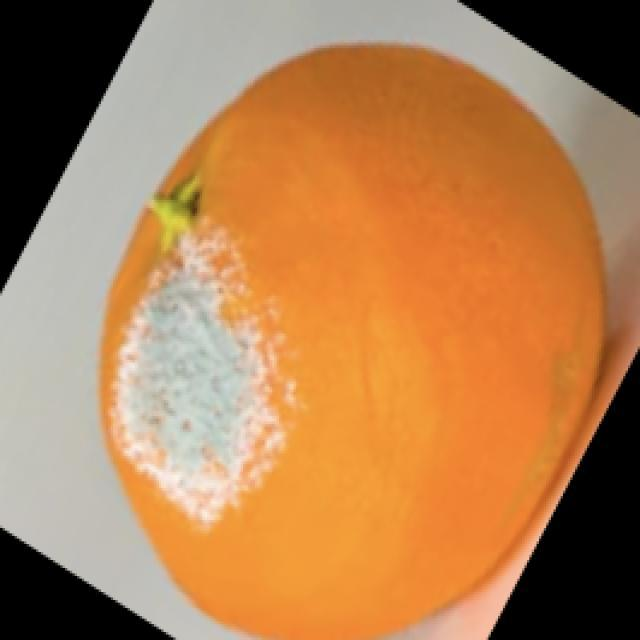sedikit-busuk: (100, 45, 603, 639)
